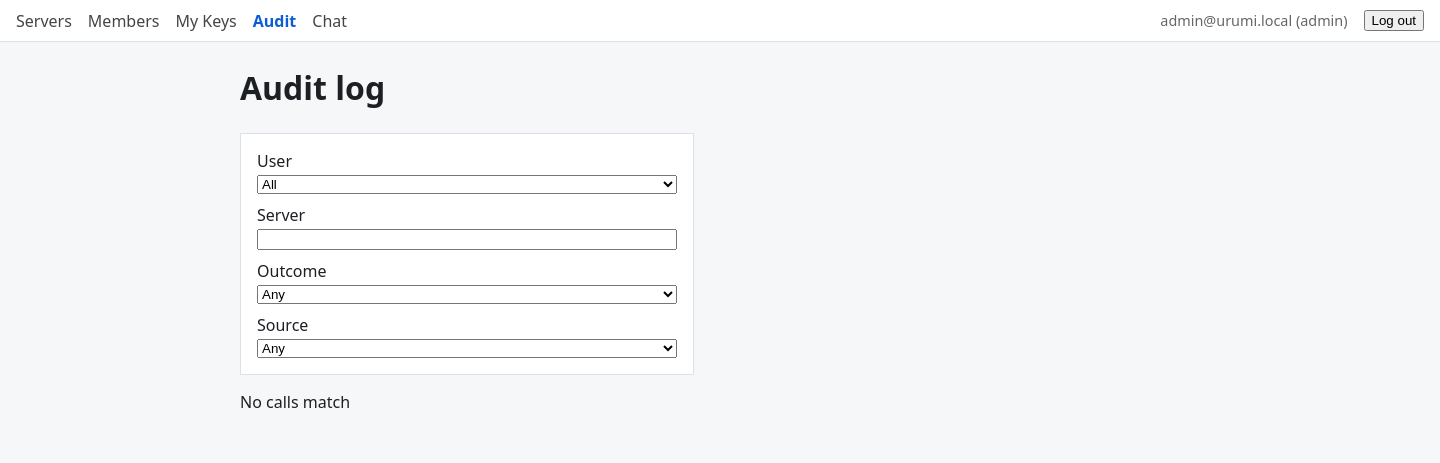
it: audit page › keeps only the latest filter's result when an older response lands last
Expected: the heading "Audit log" is shown, [240,66,385,109]
Select "error" in the dropdown labelled "Outcome" at (467, 294), box [257,285,677,304]
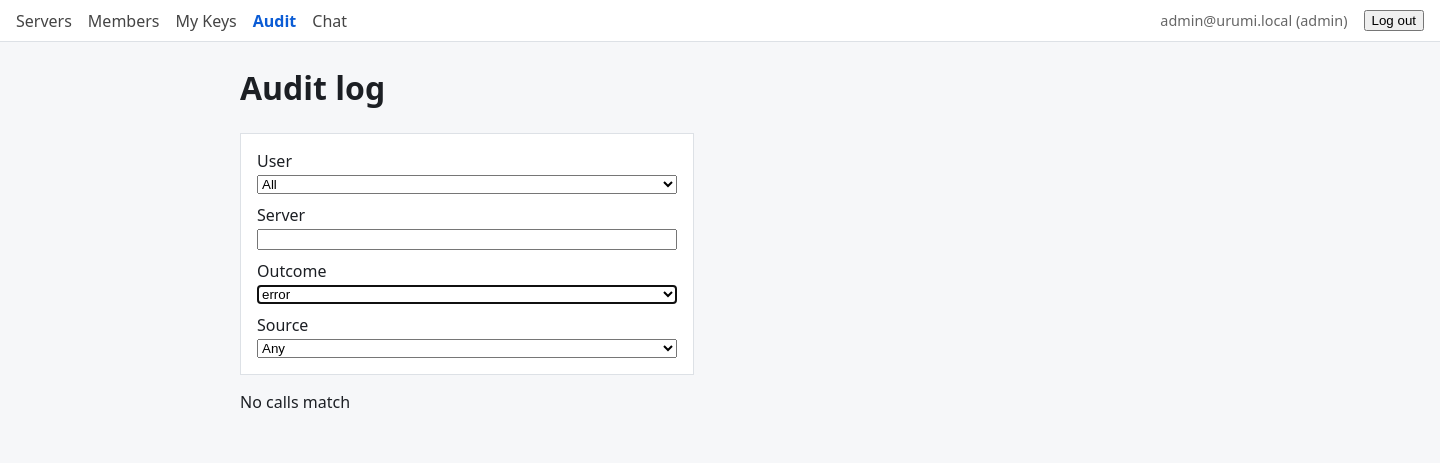
Select "ok" in the dropdown labelled "Outcome" at (467, 294), box [257,285,677,304]
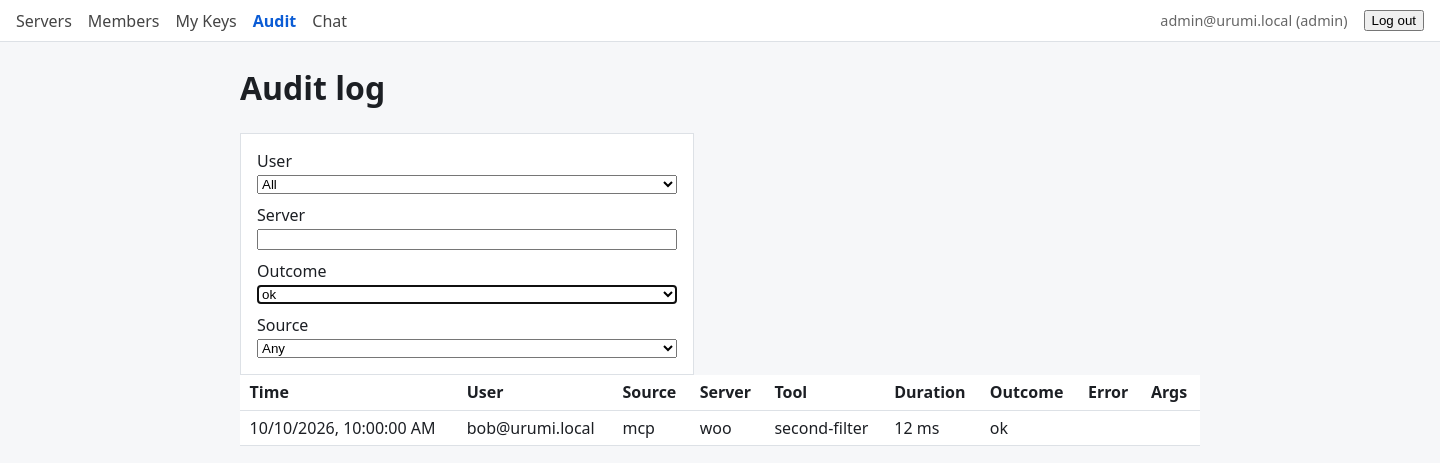
Now the text "second-filter" is shown, box [765,410,885,446]
